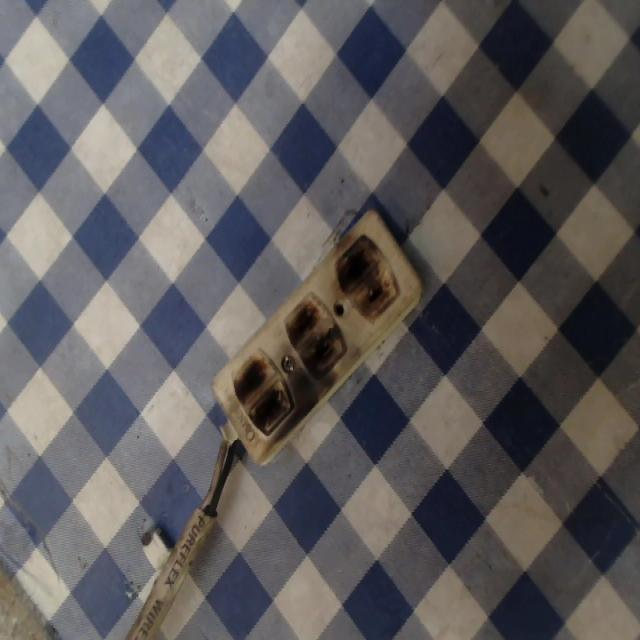-: (333, 228, 401, 323), (281, 288, 349, 380), (228, 346, 293, 438)
